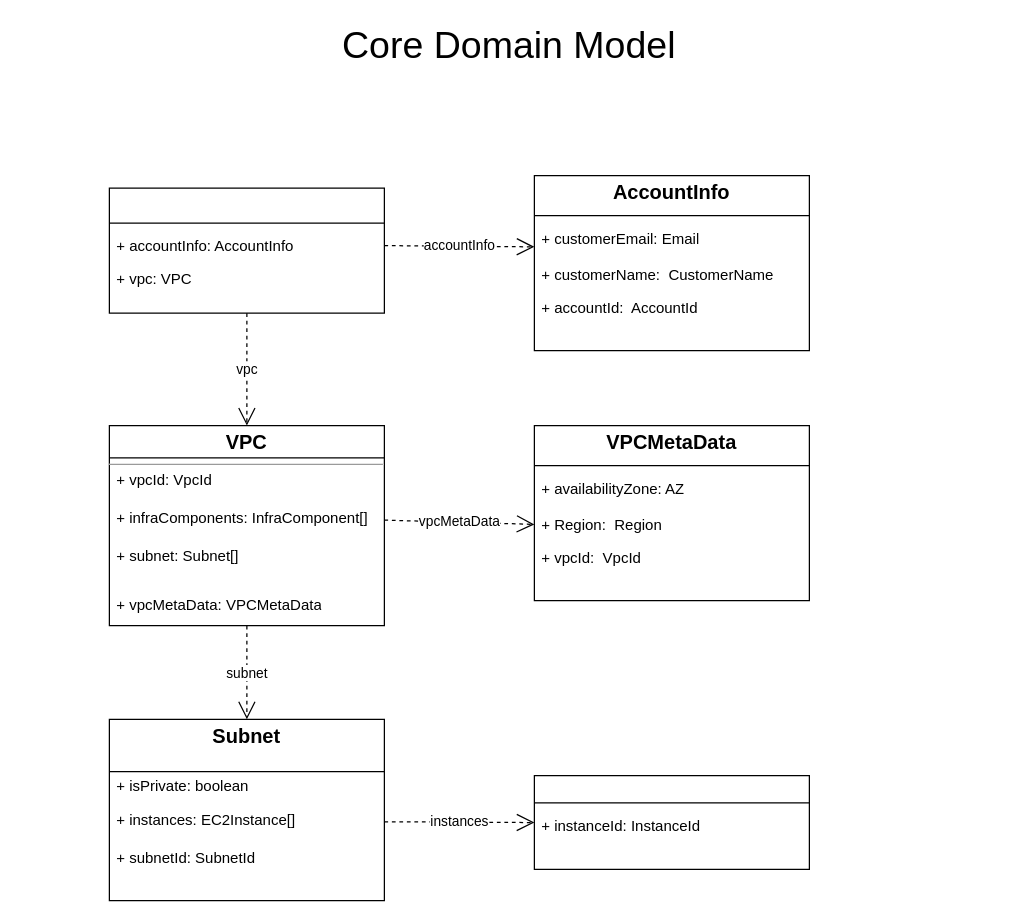
Some shapes in this 1018 by 923 pixel diagram are drawn without their labels. Each missing label, with the box of its shape:
CustomerRealm: (108, 187, 384, 313)
EC2Instance: (533, 774, 809, 869)
